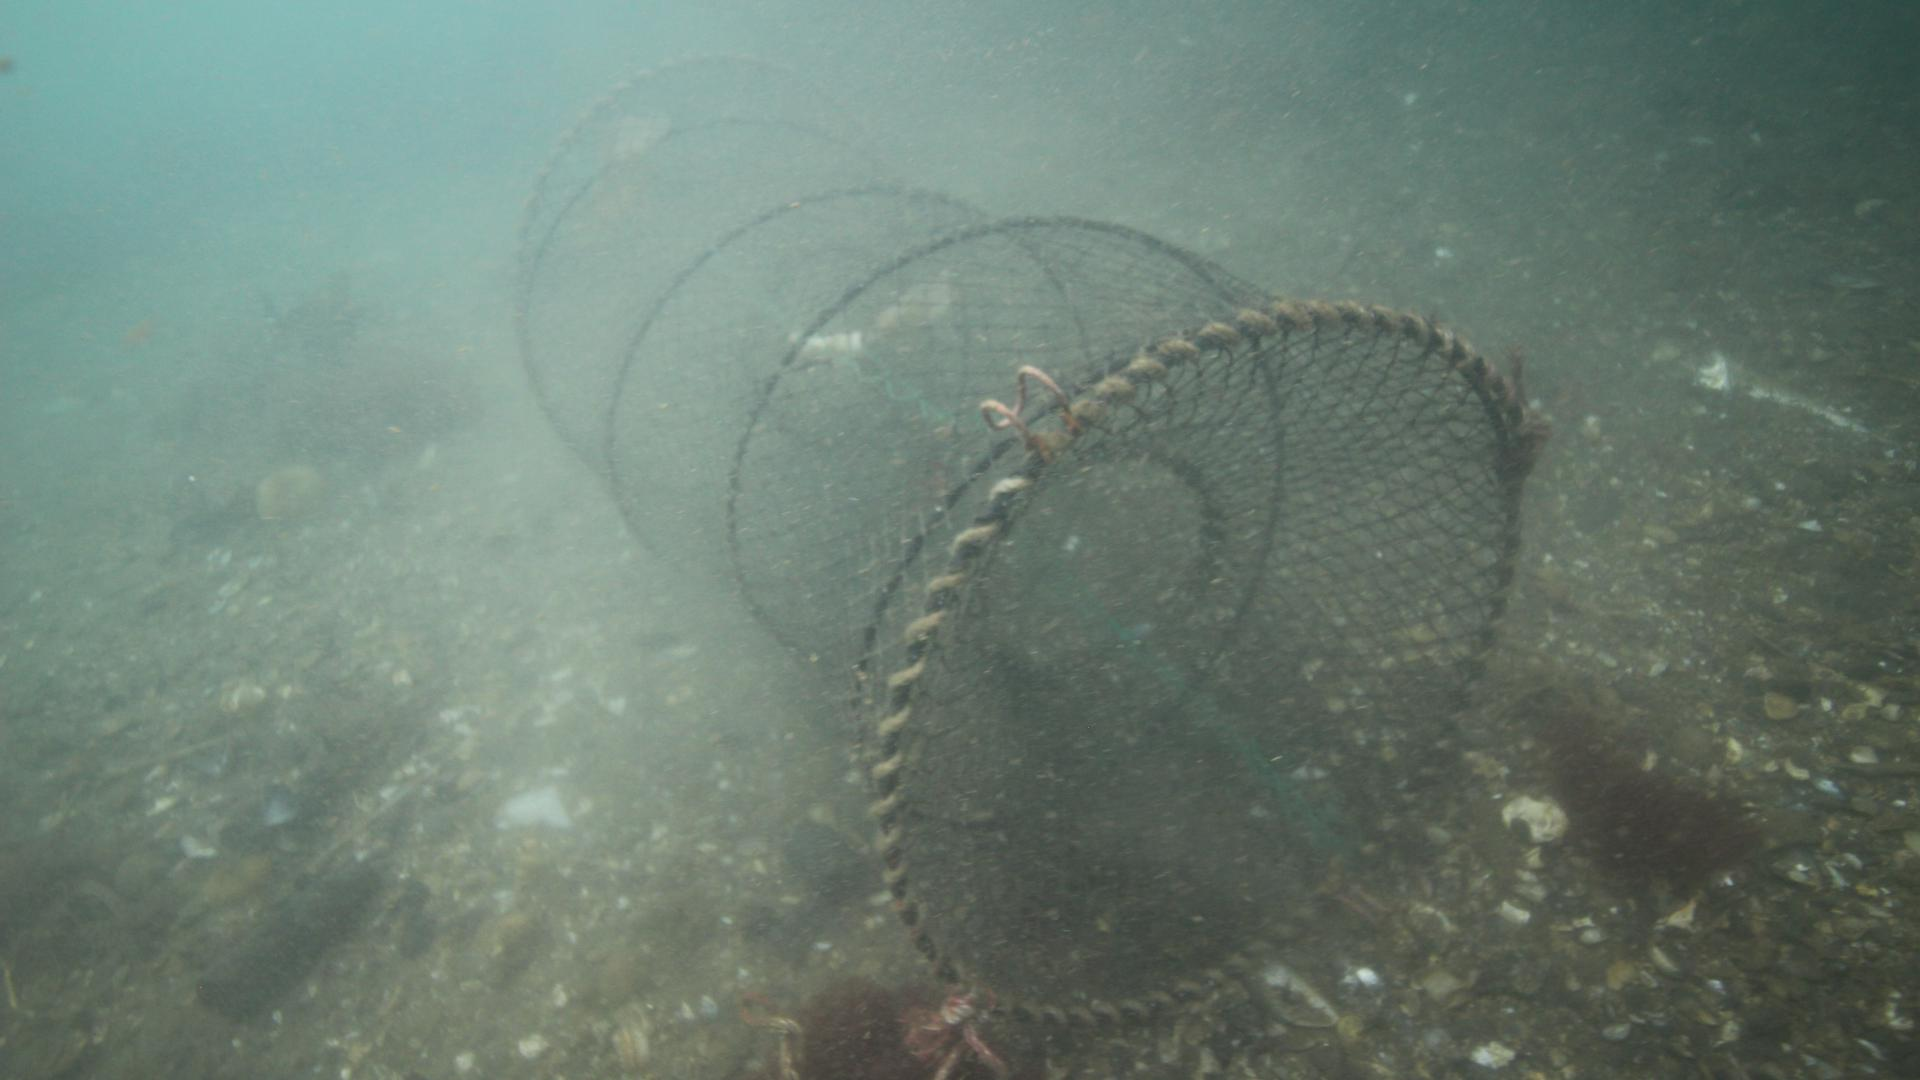spring fish trap: (512, 53, 1524, 1027)
